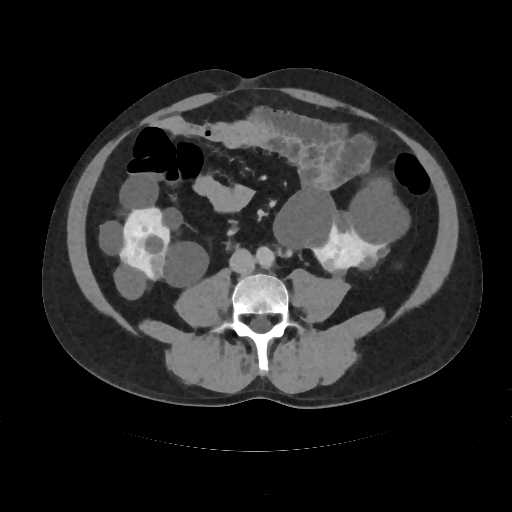Lesion: (146, 252, 165, 280)
